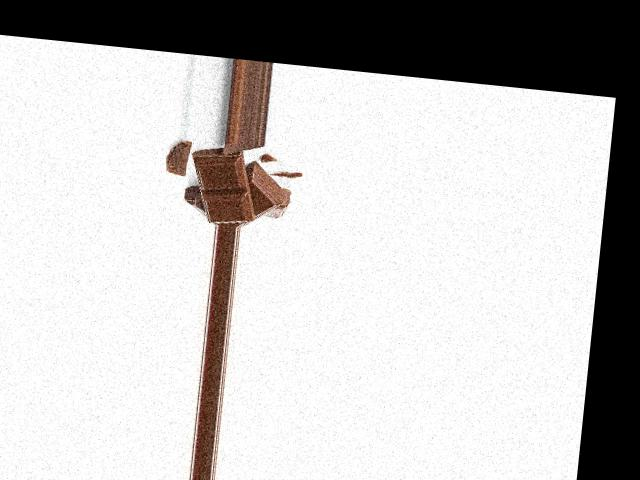chocolate: (188, 147, 261, 224)
